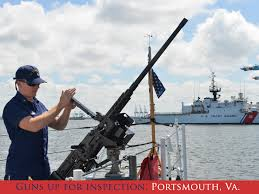gun: (45, 14, 190, 177)
